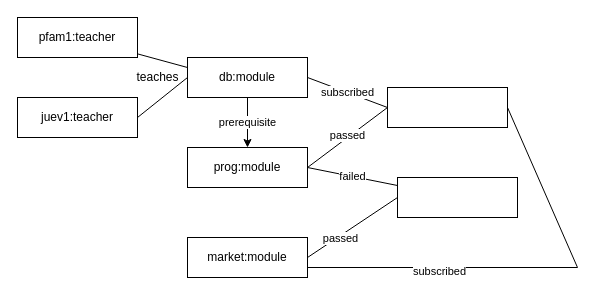
Some shapes in this 596 by 295 pixel diagram are drawn without their labels. The centre of each missing label's shape, as x and y in pixels:
hanm1:student: the point at 457,197
jand1:student: the point at 447,107
